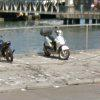Motorcycle: (33, 26, 81, 63)
